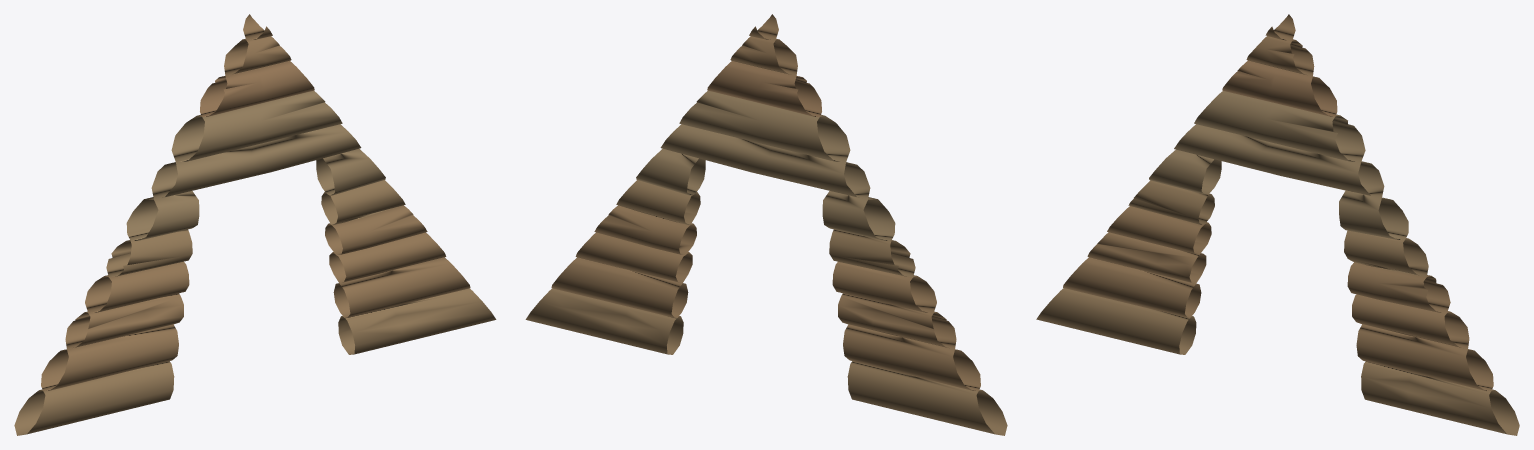
The model's file is rpgpp_ag_roof_end_01_6x5_wall_door_01b.fbx.
The picture shows the model from 3 angles, left to right: view 1: azimuth 30°, elevation 25°; view 2: azimuth 150°, elevation 25°; view 3: azimuth 330°, elevation 25°; orthographic projection.
Visible parts, largest first — view 1: rpgpp_ag_roof_end_01_6x5_wall_door_01b; view 2: rpgpp_ag_roof_end_01_6x5_wall_door_01b; view 3: rpgpp_ag_roof_end_01_6x5_wall_door_01b.
Part boxes in pixels (box(x1,y1,x2,y2)): rpgpp_ag_roof_end_01_6x5_wall_door_01b: box(14, 14, 496, 435); rpgpp_ag_roof_end_01_6x5_wall_door_01b: box(525, 14, 1007, 435); rpgpp_ag_roof_end_01_6x5_wall_door_01b: box(1036, 14, 1519, 435).
Size of the model in its own units: 6.36 by 4.55 by 0.5143.
